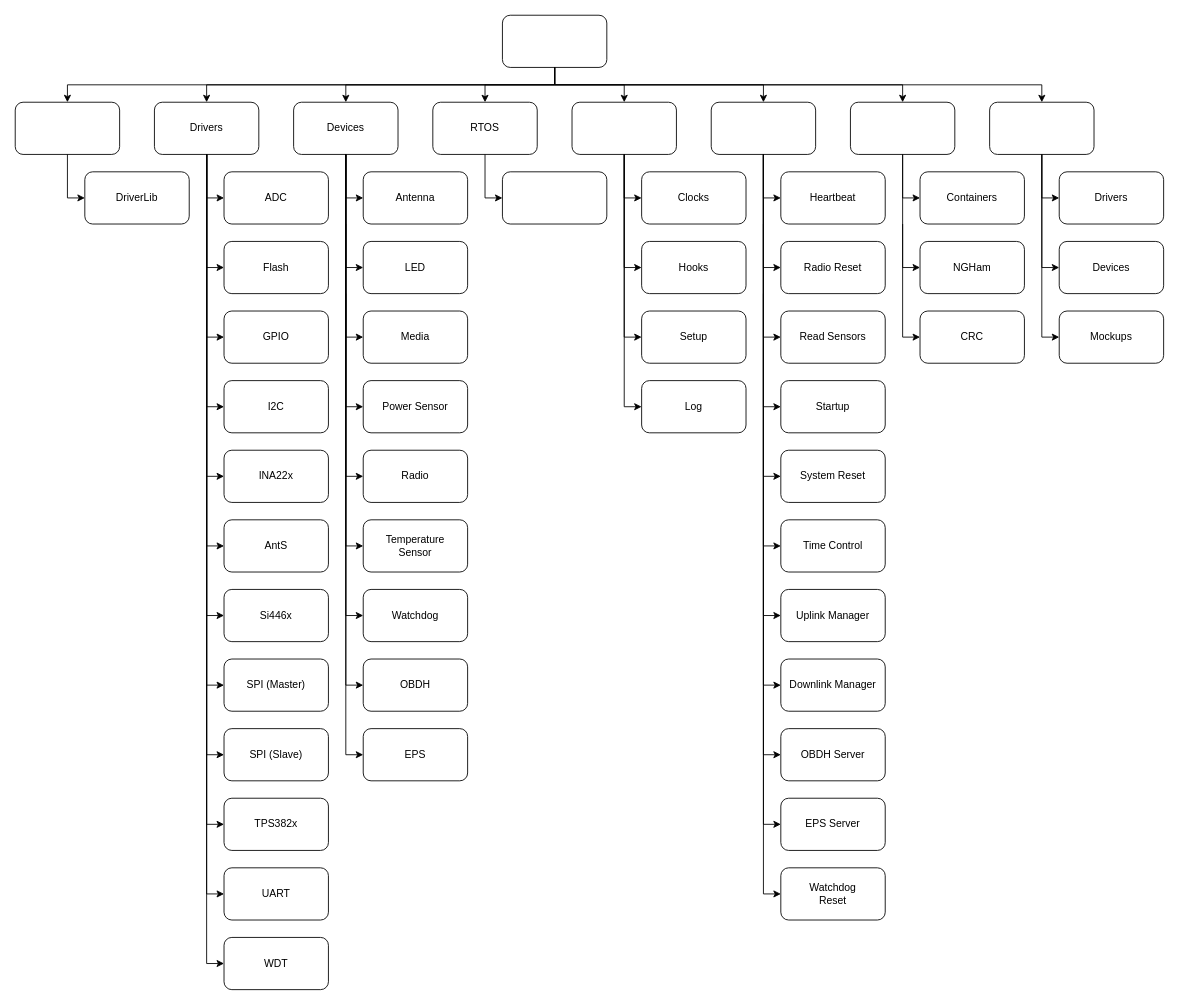
The diagram is 1179 pixels wide and 1005 high, and some of its shapes have lost their labels. The shapes that lost their labels are listed below. From the top down, each one's box as (x1, y1, x2, y2) in pixels, then its label:
(502, 14, 607, 67): TTC 2.0 Firmware
(14, 101, 120, 154): HAL
(571, 101, 676, 154): System
(710, 101, 816, 154): Tasks
(850, 101, 955, 154): Libraries
(989, 101, 1094, 154): Tests
(502, 171, 607, 224): FreeRTOS
